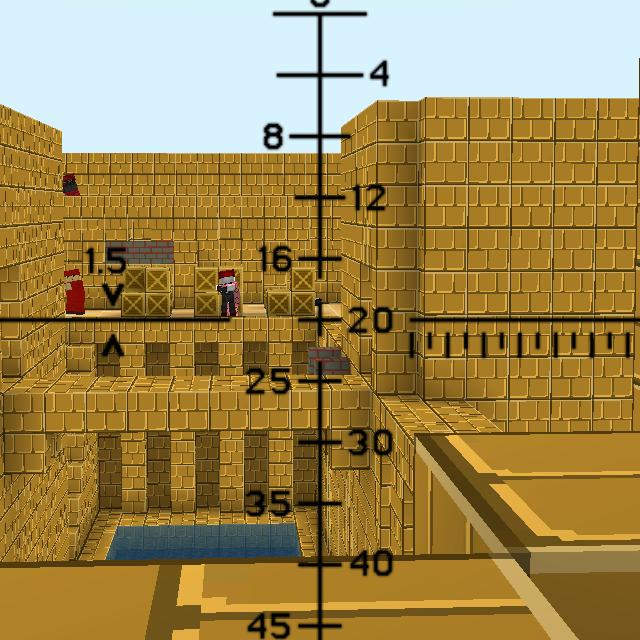enemy: (217, 268, 241, 317), (64, 266, 85, 318), (62, 172, 80, 197)
